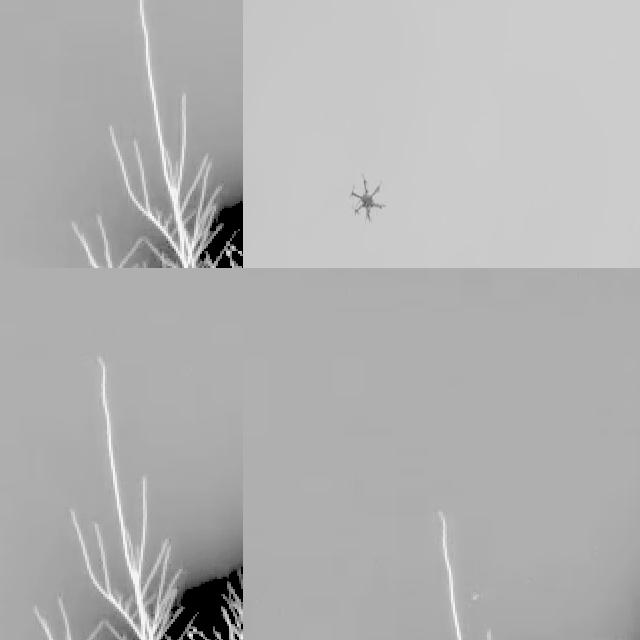0: (463, 587, 485, 607)
drone: (348, 165, 388, 228)
